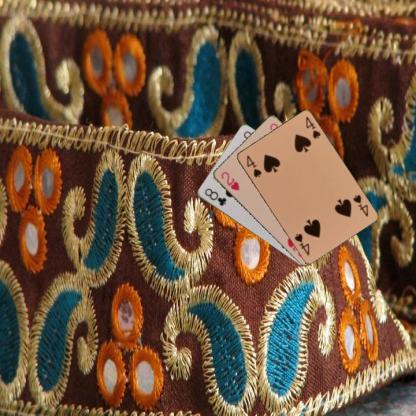2h: (218, 170, 240, 192)
4s: (244, 152, 263, 178), (350, 192, 369, 218)
8c: (202, 186, 228, 208)
